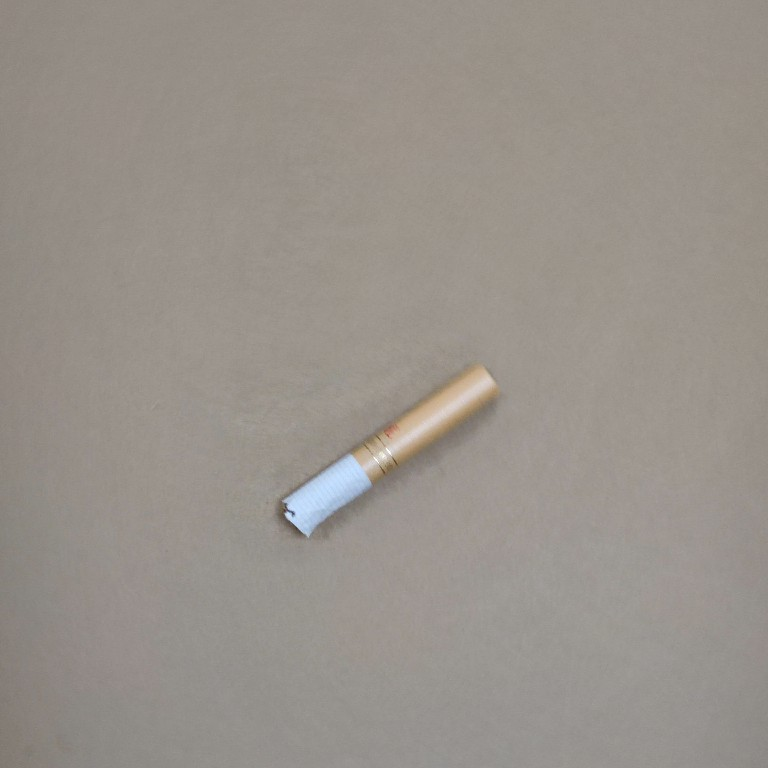cigarette: (276, 354, 505, 542)
